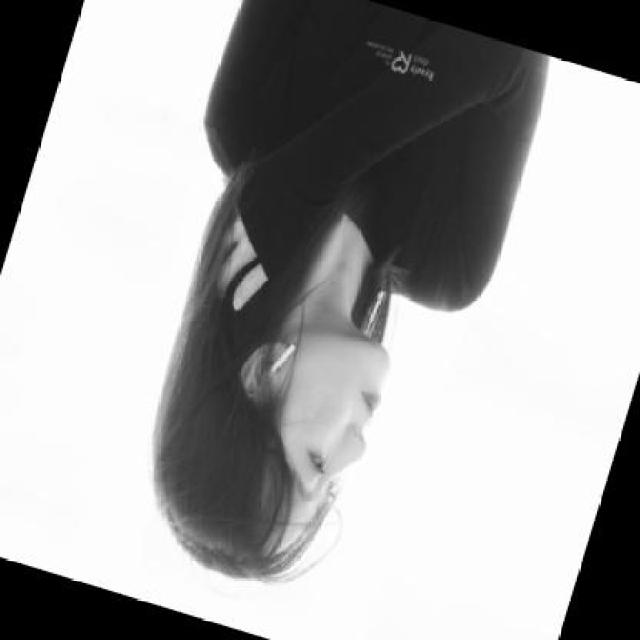earphone: (260, 332, 299, 383)
